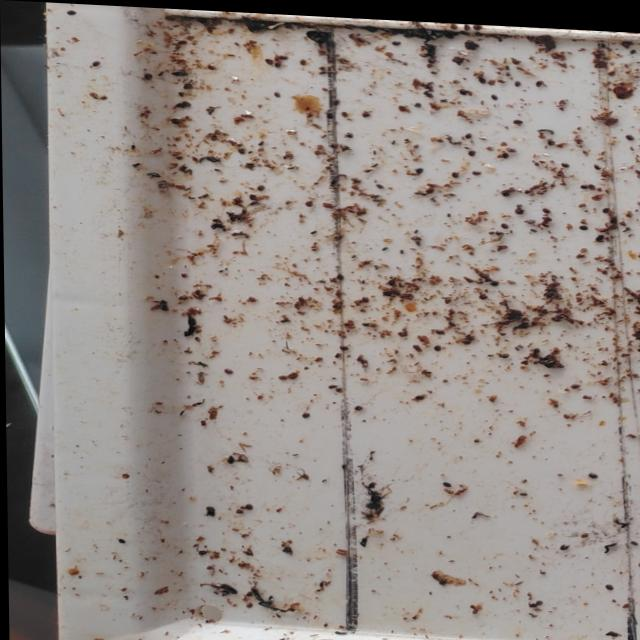varroa: (584, 466, 601, 475), (558, 537, 571, 547), (415, 162, 428, 172), (352, 401, 366, 410), (224, 453, 236, 463), (412, 390, 427, 398), (497, 347, 512, 355), (244, 501, 257, 510), (271, 89, 284, 98), (440, 476, 454, 484), (90, 58, 101, 68), (334, 270, 346, 279), (144, 72, 157, 80), (489, 275, 500, 284), (300, 409, 312, 417), (288, 369, 300, 377), (501, 186, 513, 194), (256, 182, 268, 190), (361, 108, 373, 116), (170, 117, 182, 125), (473, 20, 485, 28), (471, 165, 484, 172), (512, 115, 525, 122), (604, 577, 614, 586), (628, 534, 639, 542), (434, 341, 445, 349), (490, 88, 501, 96), (626, 127, 637, 135), (524, 215, 536, 222), (89, 92, 101, 99), (182, 81, 194, 88), (501, 218, 511, 226), (452, 167, 462, 175), (340, 342, 351, 349), (223, 366, 234, 373), (393, 36, 404, 43), (459, 85, 470, 92), (466, 146, 477, 153), (374, 181, 385, 188), (500, 149, 511, 156), (604, 201, 613, 209), (610, 211, 619, 219), (465, 128, 474, 136), (548, 134, 557, 142), (345, 128, 354, 136), (580, 178, 590, 185), (597, 228, 605, 236), (249, 192, 258, 199), (265, 56, 274, 63), (478, 74, 487, 81), (537, 76, 546, 83), (593, 158, 602, 165), (589, 177, 596, 186), (542, 203, 552, 209), (542, 211, 554, 216), (300, 56, 308, 63), (277, 373, 288, 378), (579, 219, 588, 225), (274, 59, 283, 65), (562, 157, 571, 163), (342, 109, 350, 115), (452, 20, 460, 26), (279, 54, 288, 58), (464, 21, 471, 26), (515, 77, 522, 82), (638, 198, 640, 205), (639, 236, 640, 242)
